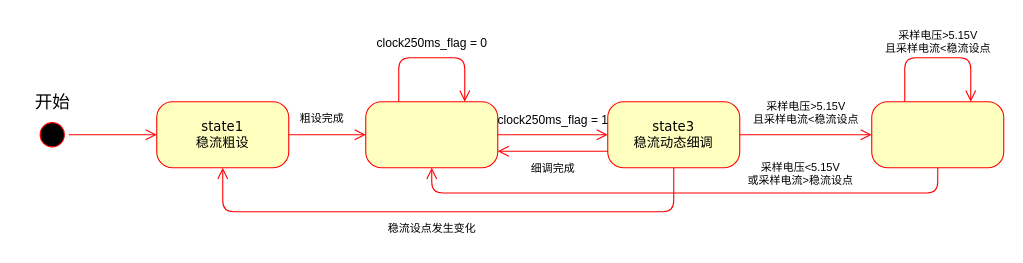
Some shapes in this 1023 by 263 pixel diagram are drawn without their labels. Each missing label, with the centre of its shape:
"state2 延时250ms" goes at point (431, 134).
"state4 过压保护" goes at point (937, 134).
